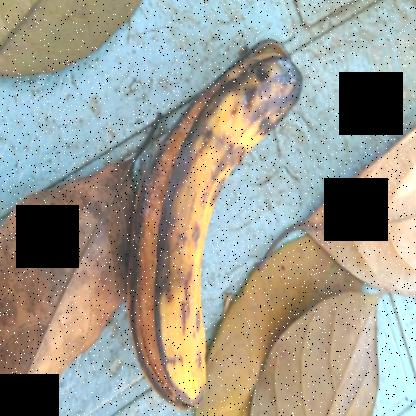rotten: (113, 22, 313, 415)
